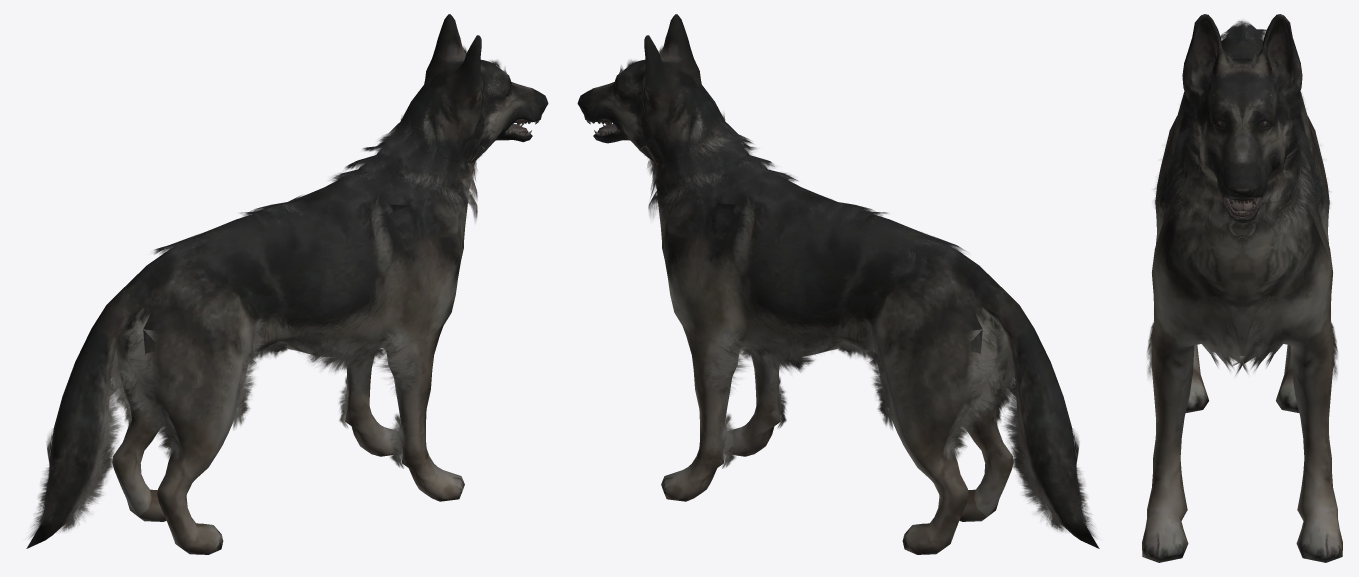
File: chien_bergerallemand.glb
The picture shows the model from 3 angles, left to right: view 1: azimuth 30°, elevation 25°; view 2: azimuth 150°, elevation 25°; view 3: azimuth 270°, elevation 25°; orthographic projection. The views are drawn at different scales.
Parts seen in each view (by area): view 1: TomGroup_0_Material #34_0, TomGroup_3_Material #37_0; view 2: TomGroup_0_Material #34_0, TomGroup_3_Material #37_0; view 3: TomGroup_0_Material #34_0, TomGroup_3_Material #37_0.
Boxes of the visible parts, x1,y1,x2,y2 form: TomGroup_0_Material #34_0: [26, 14, 548, 554]; TomGroup_3_Material #37_0: [29, 46, 508, 539]; TomGroup_0_Material #34_0: [577, 14, 1099, 554]; TomGroup_3_Material #37_0: [617, 46, 1096, 539]; TomGroup_0_Material #34_0: [1142, 14, 1342, 562]; TomGroup_3_Material #37_0: [1147, 20, 1337, 378].
Bounding box in the file's own units: 3.41 × 2.69 × 0.8714.
Materials: 2 (2 with a texture image).
